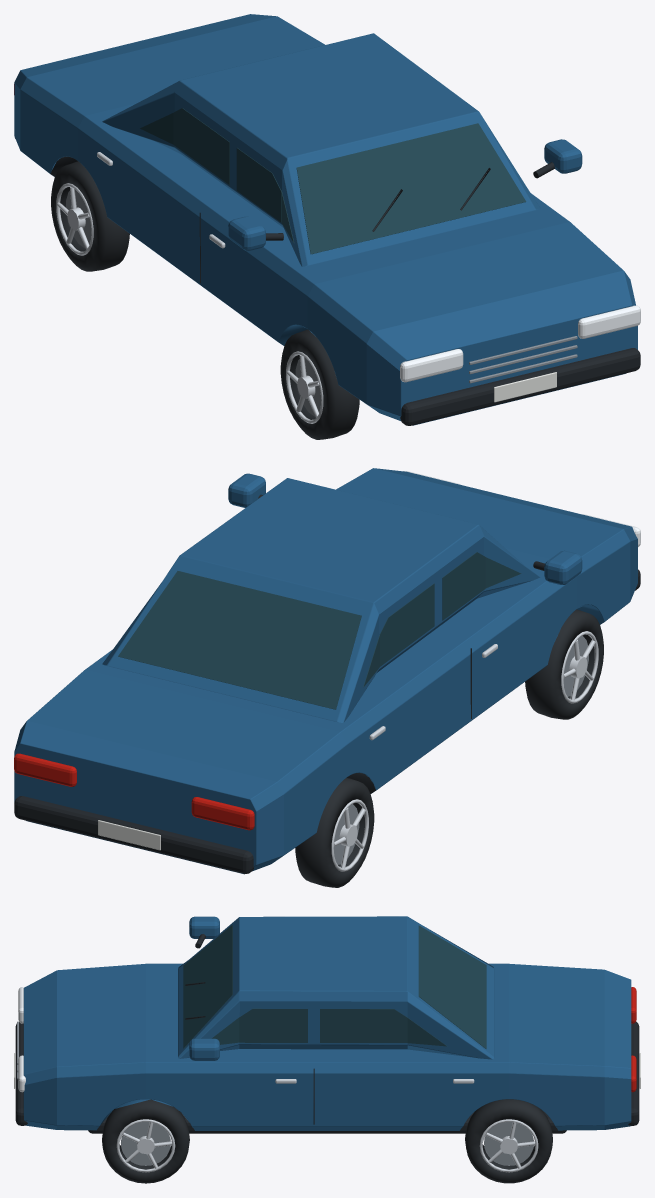
File: sedan.glb
3 views of the same model, one above another, from view 1: azimuth 30°, elevation 25°; view 2: azimuth 150°, elevation 25°; view 3: azimuth 270°, elevation 25° (orthographic). The views are drawn at different scales.
Parts seen in each view (by area): view 1: Coachwork lower body, Cab and roof, Front windscreen, Bumper, Front_tire, Rear_tire, Rear side glass, Front side glass.001, Headlamp, Headlamp.001, Mirror shell, Blank registration panel (+3 smaller); view 2: Coachwork lower body, Cab and roof, Rear windscreen, Bumper.001, Rear_tire, Front_tire, Rear side glass, Front side glass.001, Tail lamp, Tail lamp.001, Mirror shell, Blank registration panel.001 (+4 smaller); view 3: Coachwork lower body, Cab and roof, Rear windscreen, Rear_tire.001, Front windscreen, Front_tire.001, Rear side glass.002, Front side glass.003, Rear_brake.001, Front_brake.001, Underbody, Bumper.001 (+7 smaller).
Boxes of the visible parts, x1,y1,x2,y2 form: Coachwork lower body: (14, 14, 637, 425); Cab and roof: (102, 33, 540, 266); Front windscreen: (296, 123, 526, 254); Bumper: (400, 348, 640, 425); Front_tire: (280, 329, 359, 439); Rear_tire: (51, 161, 129, 271); Rear side glass: (173, 108, 229, 184); Front side glass.001: (236, 148, 281, 222); Headlamp: (400, 349, 463, 382); Headlamp.001: (578, 305, 640, 338); Mirror shell: (228, 216, 265, 250); Blank registration panel: (494, 372, 556, 402); Coachwork lower body: (14, 468, 637, 874); Cab and roof: (102, 478, 540, 722); Rear windscreen: (118, 571, 361, 709); Bumper.001: (14, 796, 253, 873); Rear_tire: (295, 778, 374, 887); Front_tire: (525, 609, 603, 719); Rear side glass: (380, 583, 434, 666); Front side glass.001: (442, 552, 485, 620); Tail lamp: (191, 797, 254, 830); Tail lamp.001: (14, 753, 76, 786); Mirror shell: (544, 550, 582, 584); Blank registration panel.001: (98, 820, 160, 850); Coachwork lower body: (23, 963, 631, 1130); Cab and roof: (178, 916, 494, 1059); Rear windscreen: (418, 925, 486, 1048); Rear_tire.001: (465, 1099, 552, 1183); Front windscreen: (183, 924, 232, 1048); Front_tire.001: (102, 1099, 189, 1183); Rear side glass.002: (320, 1009, 407, 1042); Front side glass.003: (239, 1008, 307, 1042); Rear_brake.001: (484, 1122, 533, 1165); Front_brake.001: (121, 1122, 170, 1165); Underbody: (88, 1111, 566, 1133); Bumper.001: (628, 1021, 639, 1125).
Bounding box in the file's own units: 2.32 × 1.48 × 4.7.
